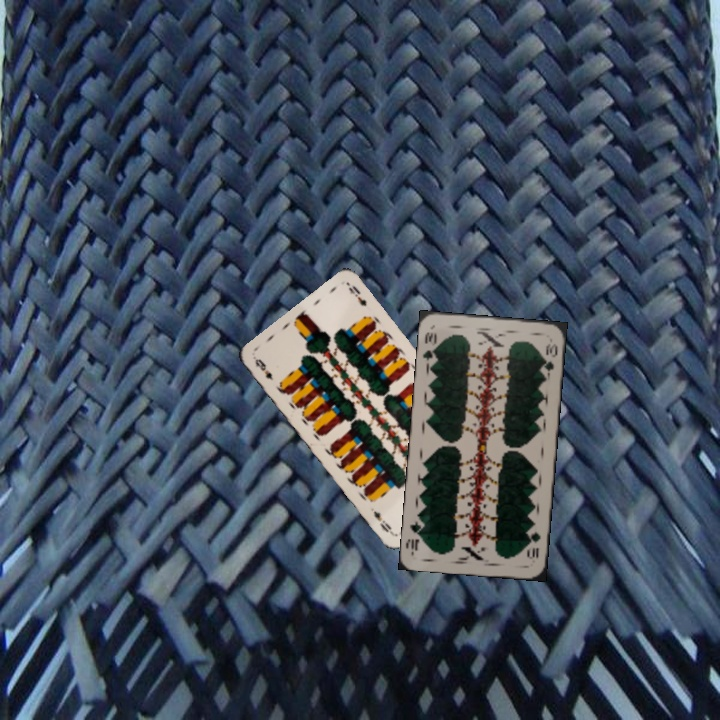E9: (251, 355, 276, 383)
G10: (419, 328, 440, 363), (523, 528, 543, 561)
